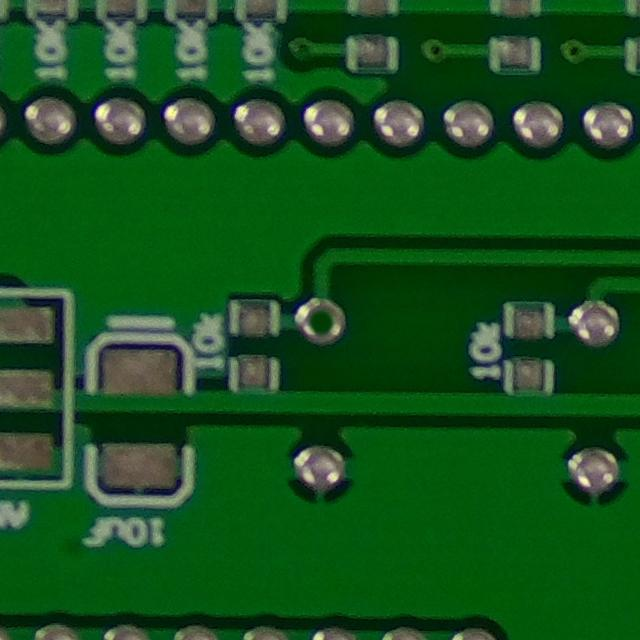missing_hole: (290, 290, 351, 350)
